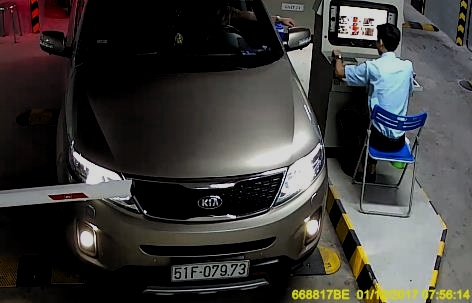plate: (169, 263, 249, 280)
